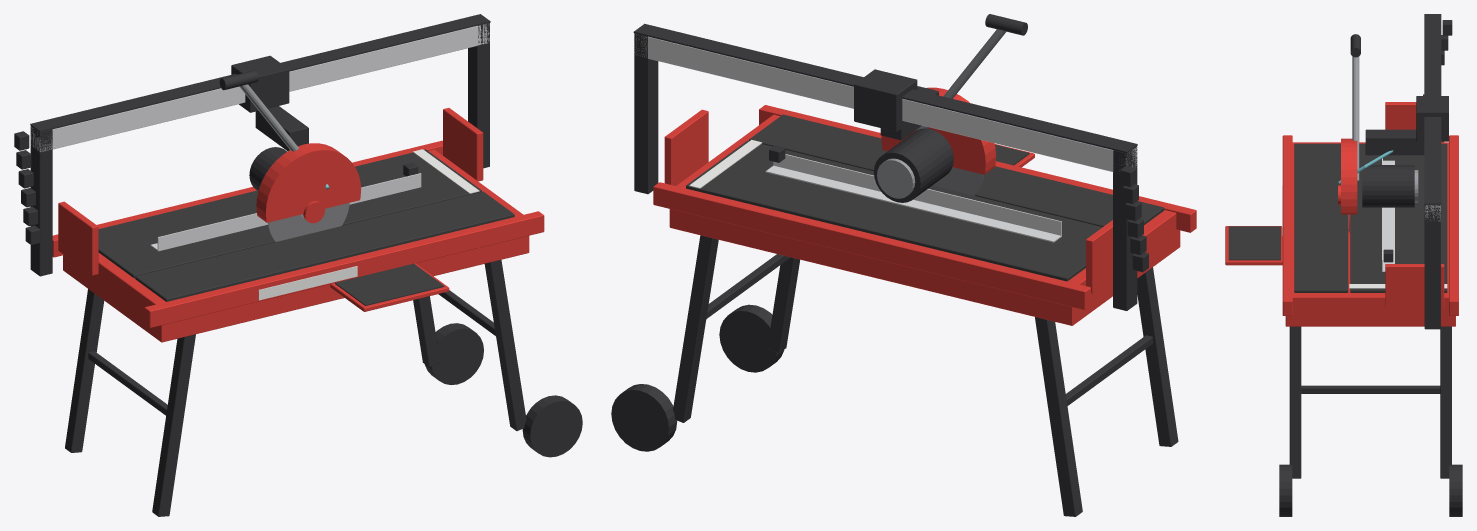
The model's file is tile_saw_zubr.glb.
The picture shows the model from 3 angles, left to right: view 1: azimuth 30°, elevation 25°; view 2: azimuth 150°, elevation 25°; view 3: azimuth 270°, elevation 25°; orthographic projection. The views are drawn at different scales.
Visible parts, largest first — view 1: Table_Front, Table_Back, Body_Tray, Rail_Alu_1370, Body_Rail_F, Guard, Rail_Cap, Leg_-1_1, Leg_1_1, Column_-1, Leg_-1_-1, Wheel_1 (+18 smaller); view 2: Table_Back, Body_Tray, Body_Rail_B, Rail_Alu_1370, Table_Front, Rail_Cap, Leg_-1_-1, Column_1, Fence_Angle_V, Leg_1_-1, Wheel_-1, Leg_-1_1 (+16 smaller); view 3: Table_Front, Table_Back, Body_Tray, Rail_Cap, Motor, Column_1, Body_Rail_F, Leg_1_1, Gusset_1, Side_Table_Mat, Body_Rail_B, Leg_1_-1 (+10 smaller).
Part boxes in pixels (bbox=[...]): Table_Front: bbox=[135, 191, 514, 301]; Table_Back: bbox=[98, 149, 481, 278]; Body_Tray: bbox=[63, 149, 529, 342]; Rail_Alu_1370: bbox=[31, 24, 489, 151]; Body_Rail_F: bbox=[144, 211, 544, 327]; Guard: bbox=[256, 143, 361, 222]; Rail_Cap: bbox=[30, 14, 490, 132]; Leg_-1_1: bbox=[152, 334, 195, 516]; Leg_1_1: bbox=[484, 260, 526, 430]; Column_-1: bbox=[30, 126, 52, 276]; Leg_-1_-1: bbox=[65, 289, 104, 452]; Wheel_1: bbox=[522, 395, 582, 457]; Table_Back: bbox=[686, 140, 1102, 281]; Body_Tray: bbox=[669, 114, 1180, 325]; Body_Rail_B: bbox=[653, 182, 1090, 309]; Rail_Alu_1370: bbox=[634, 34, 1137, 171]; Table_Front: bbox=[749, 114, 1164, 226]; Rail_Cap: bbox=[633, 23, 1137, 153]; Leg_-1_-1: bbox=[1035, 317, 1082, 516]; Column_1: bbox=[634, 33, 658, 194]; Fence_Angle_V: bbox=[773, 154, 1061, 235]; Leg_1_-1: bbox=[673, 235, 718, 422]; Wheel_-1: bbox=[611, 384, 677, 451]; Leg_-1_1: bbox=[1137, 267, 1178, 446]; Table_Front: bbox=[1294, 143, 1348, 292]; Table_Back: bbox=[1350, 143, 1447, 292]; Body_Tray: bbox=[1285, 142, 1455, 326]; Rail_Cap: bbox=[1424, 14, 1441, 204]; Motor: bbox=[1362, 165, 1414, 207]; Column_1: bbox=[1424, 204, 1440, 329]; Body_Rail_F: bbox=[1282, 135, 1292, 315]; Leg_1_1: bbox=[1289, 326, 1301, 478]; Gusset_1: bbox=[1385, 264, 1444, 307]; Side_Table_Mat: bbox=[1228, 226, 1280, 260]; Body_Rail_B: bbox=[1449, 135, 1458, 315]; Leg_1_-1: bbox=[1440, 326, 1451, 478].
Size of the model in its own units: 1.42 by 1.21 by 0.724.
